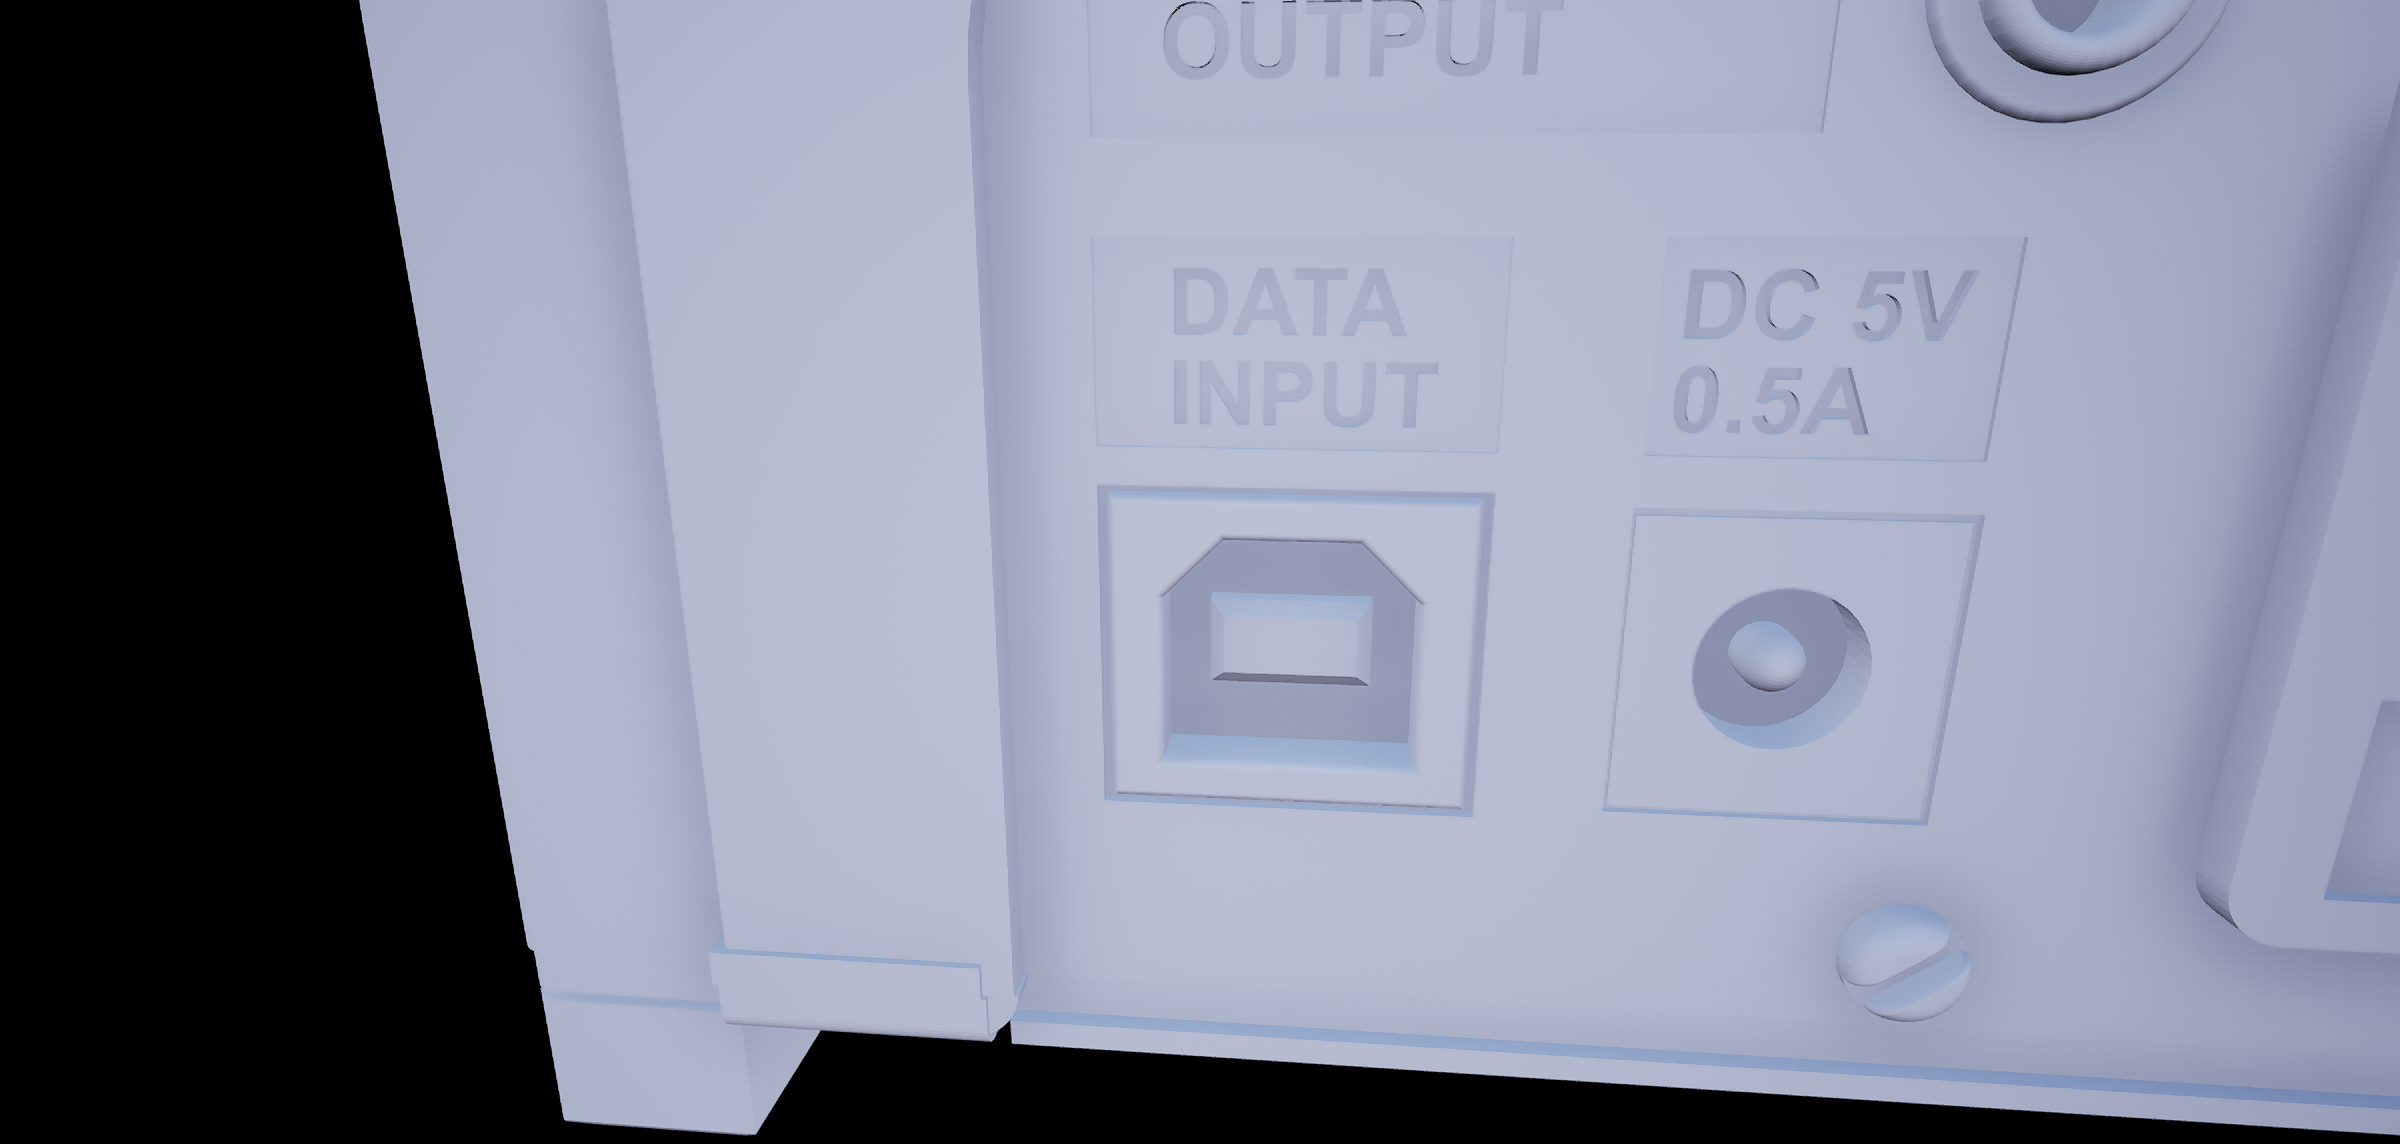aux: (1901, 2, 2245, 141)
dc: (1678, 571, 1886, 770)
usb: (1154, 521, 1436, 786)
